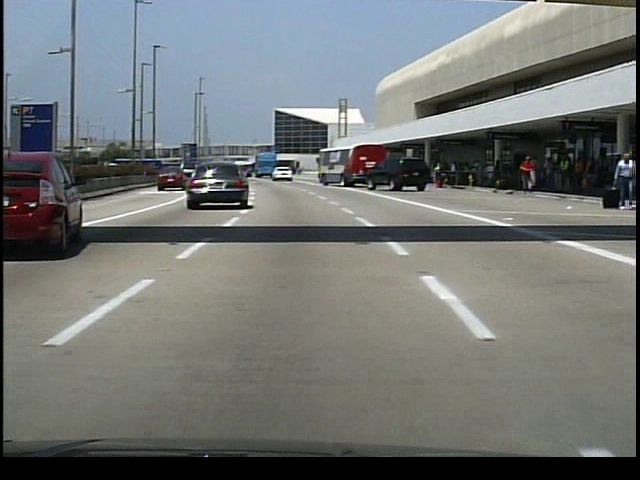person: (615, 152, 637, 209), (515, 153, 537, 193), (583, 156, 601, 194), (557, 152, 570, 191), (432, 159, 446, 189), (493, 157, 505, 187)
